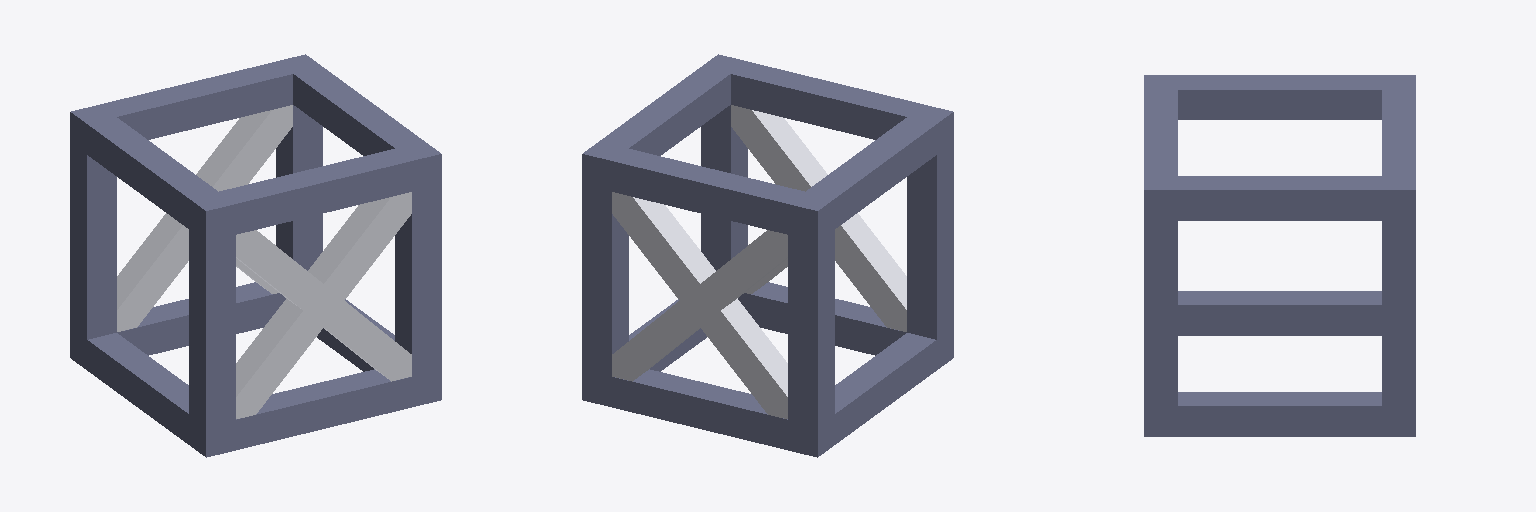
3 renders of one model, left to right at view 1: azimuth 30°, elevation 25°; view 2: azimuth 150°, elevation 25°; view 3: azimuth 270°, elevation 25°, orthographic.
Parts seen in each view (by area): view 1: cube; view 2: cube; view 3: cube.
Boxes of the visible parts, <box> form: cube: <box>70,54,441,457</box>; cube: <box>582,54,953,457</box>; cube: <box>1144,75,1415,436</box>.
Bounding box in the file's own units: 1 × 1 × 1.
2 materials, 2 textured.